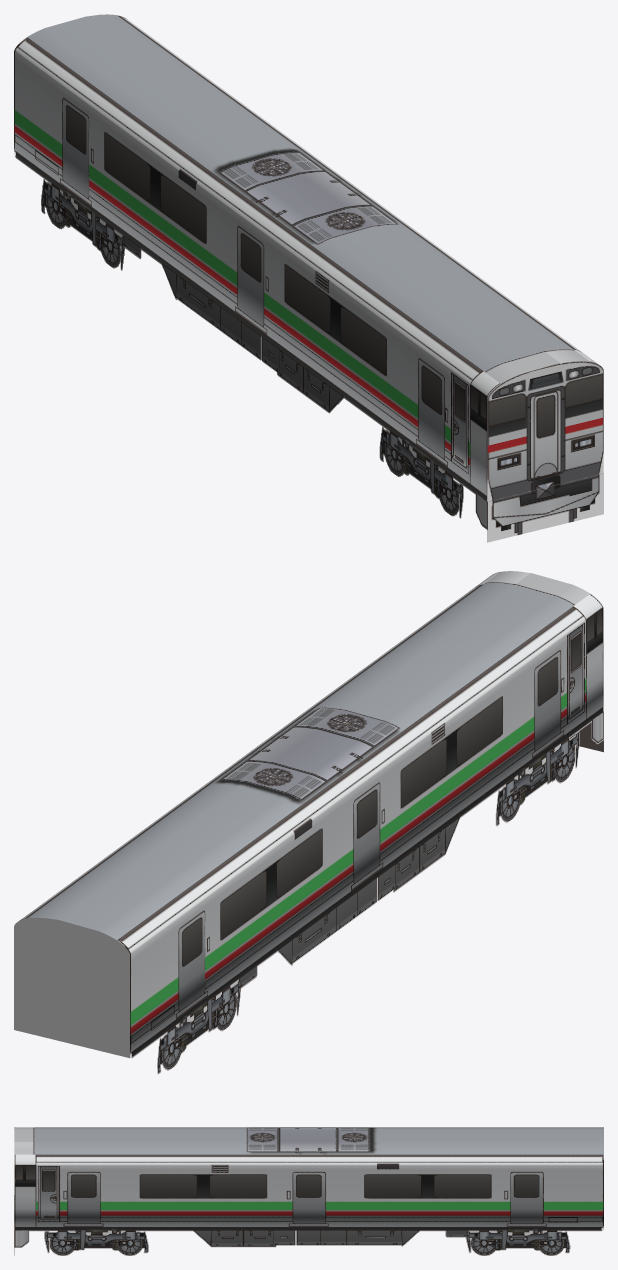
File: car1.glb
The picture shows the model from 3 angles, top to bottom: view 1: azimuth 30°, elevation 25°; view 2: azimuth 150°, elevation 25°; view 3: azimuth 270°, elevation 25°; orthographic projection. The views are drawn at different scales.
Parts seen in each view (by area): view 1: car1; view 2: car1; view 3: car1.
Boxes of the visible parts, x1,y1,x2,y2 form: car1: (14,14,603,542); car1: (14,571,603,1074); car1: (14,1127,603,1255).
Bounding box in the file's own units: 2.81 × 3.73 × 19.85.
6 materials, 4 textured.
